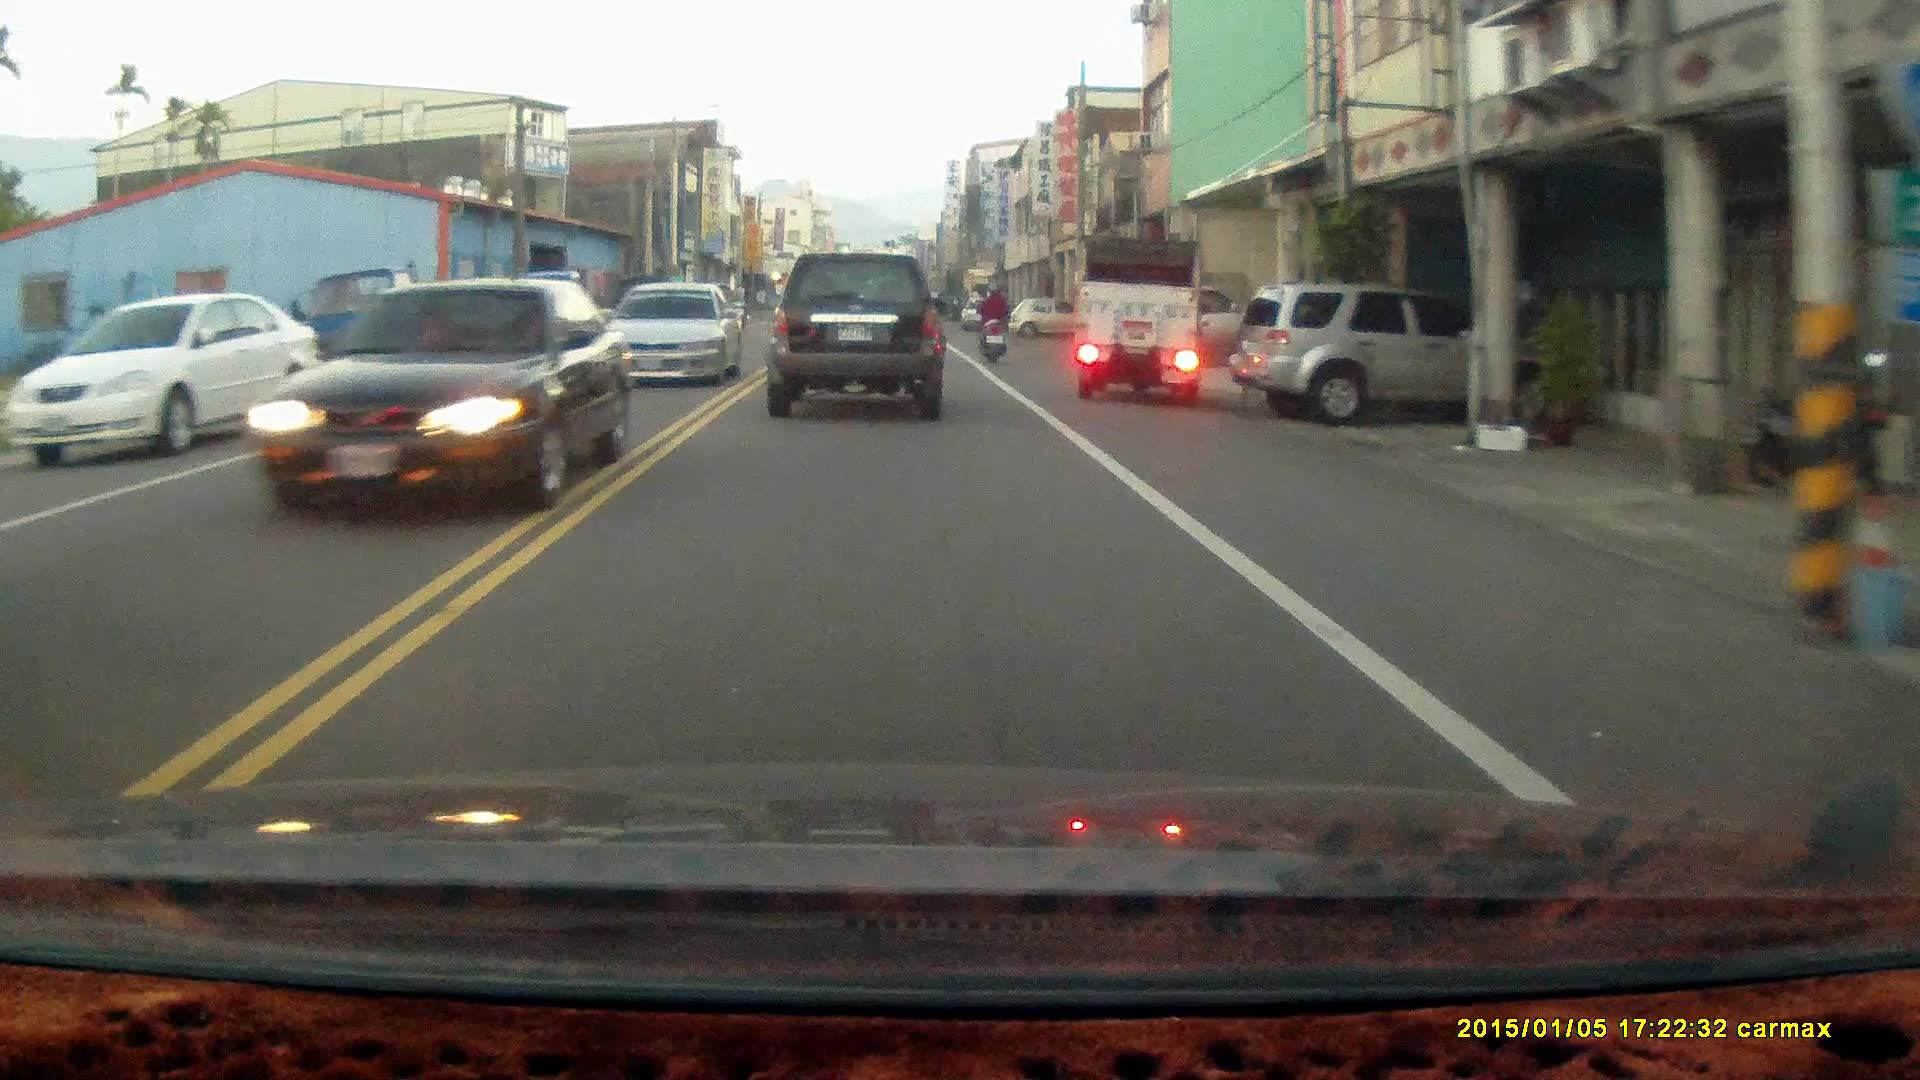rider: (974, 278, 1012, 364)
vehicle: (258, 278, 625, 518), (16, 293, 326, 467), (1234, 280, 1493, 428), (766, 257, 948, 426), (1073, 235, 1204, 400), (606, 282, 743, 389), (1009, 293, 1074, 339)
